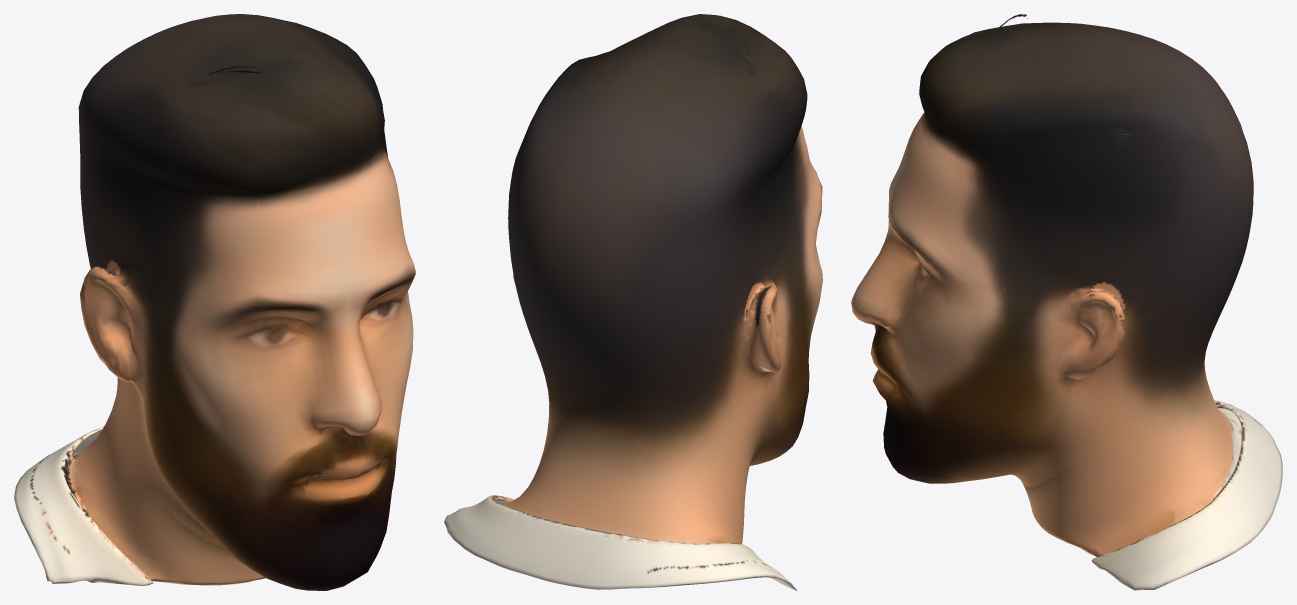
The model's file is head_low.glb.
3 renders of one model, left to right at view 1: azimuth 30°, elevation 25°; view 2: azimuth 150°, elevation 25°; view 3: azimuth 270°, elevation 25°, orthographic. The views are drawn at different scales.
Parts seen in each view (by area): view 1: geo1; view 2: geo1; view 3: geo1.
Part boxes in pixels (x1=…): geo1: x1=14, y1=14, x2=415, y2=590; geo1: x1=444, y1=14, x2=822, y2=590; geo1: x1=851, y1=14, x2=1282, y2=590.
Bounding box in the file's own units: 0.3362 × 0.4786 × 0.3902.
Materials: 1 (1 with a texture image).
